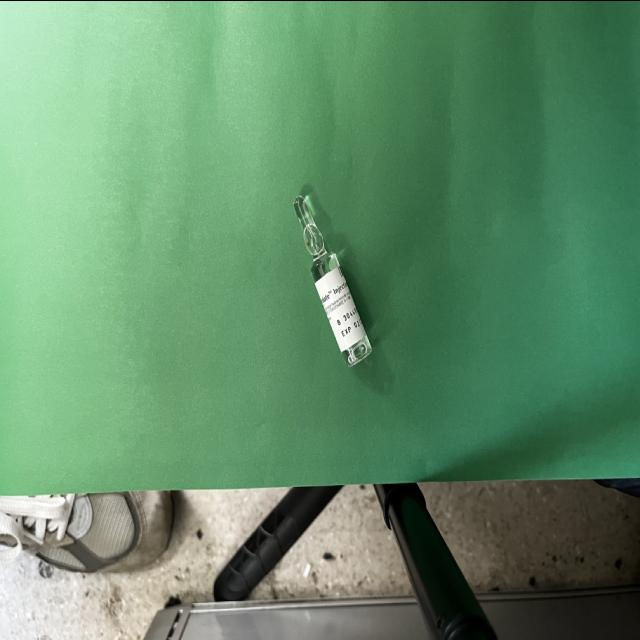Ampoules: (294, 195, 372, 366)
